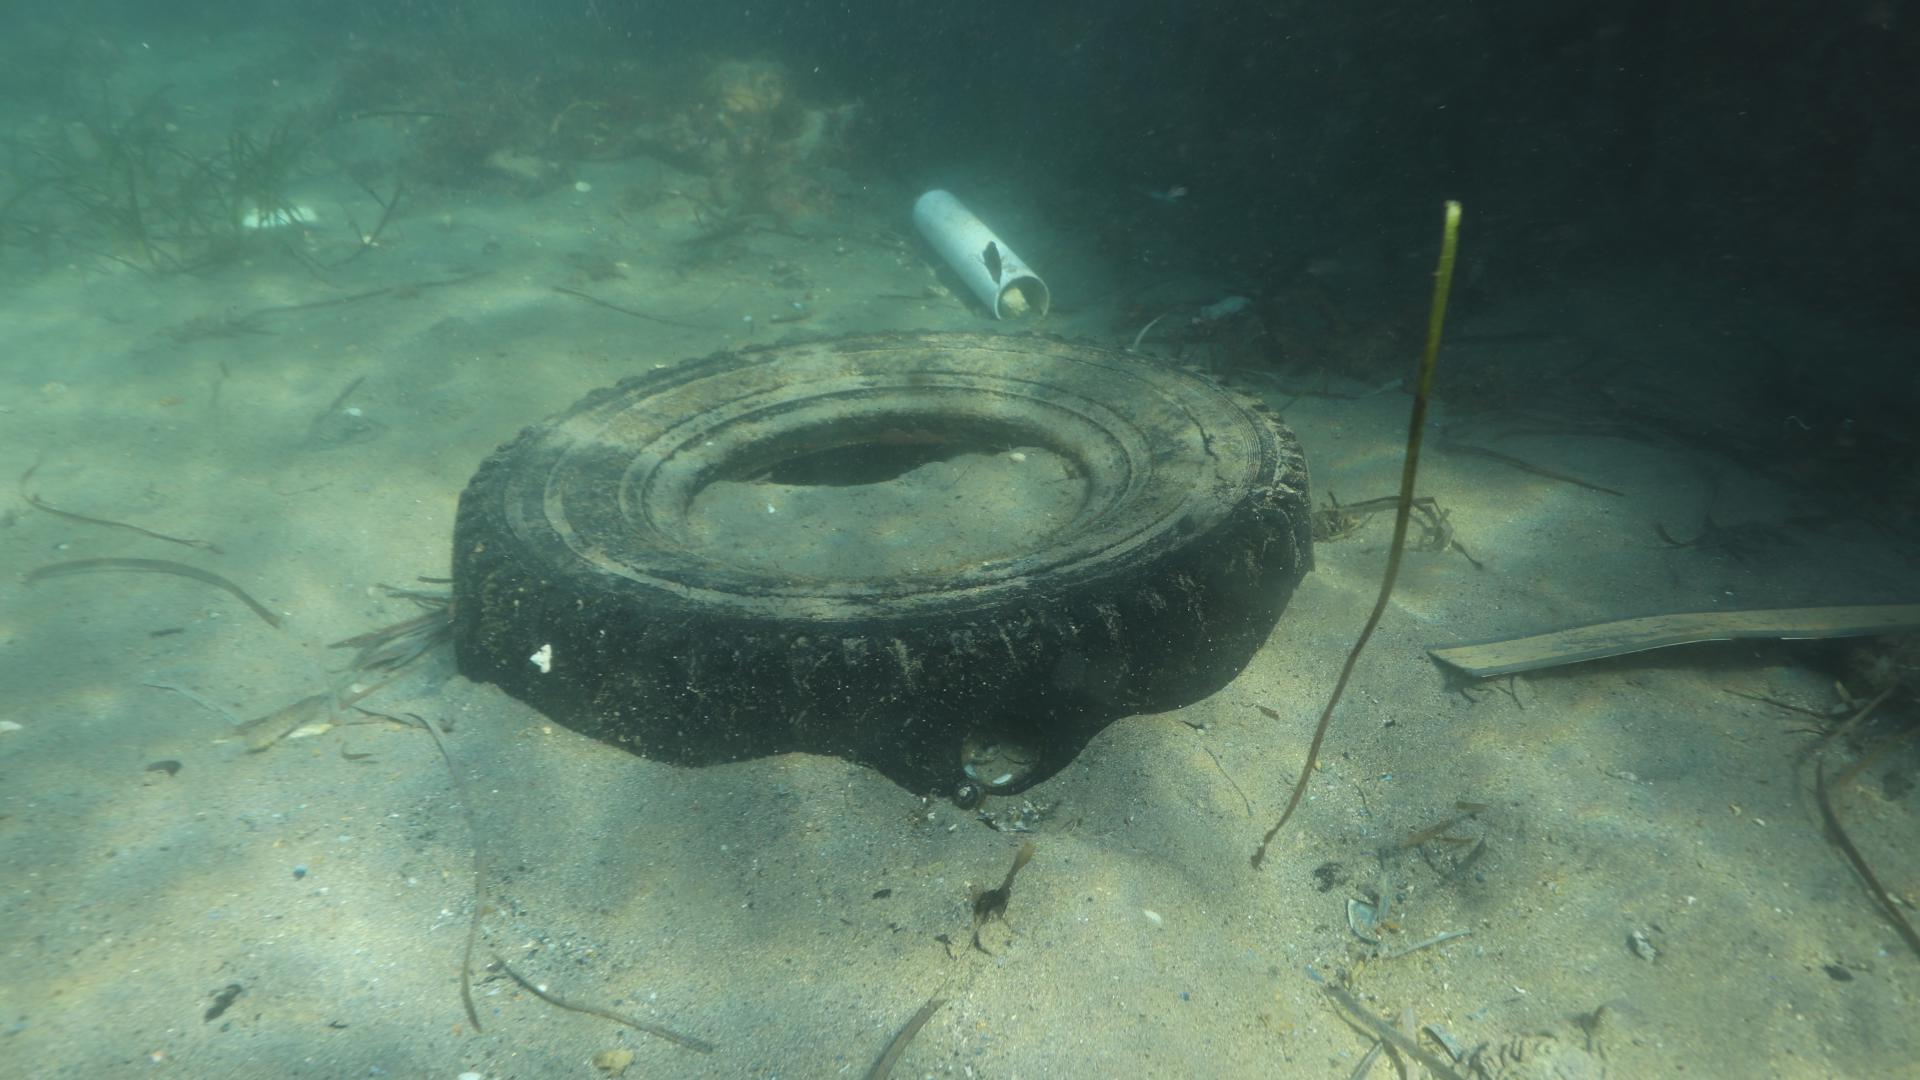tire: (450, 327, 1313, 794)
